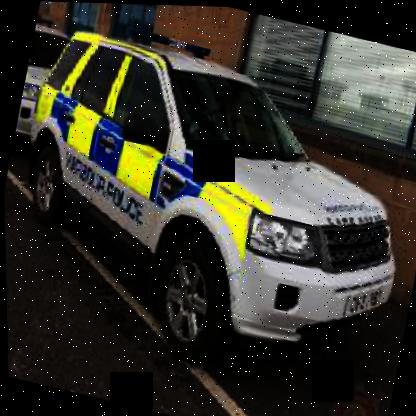emergency: (0, 8, 415, 399)
